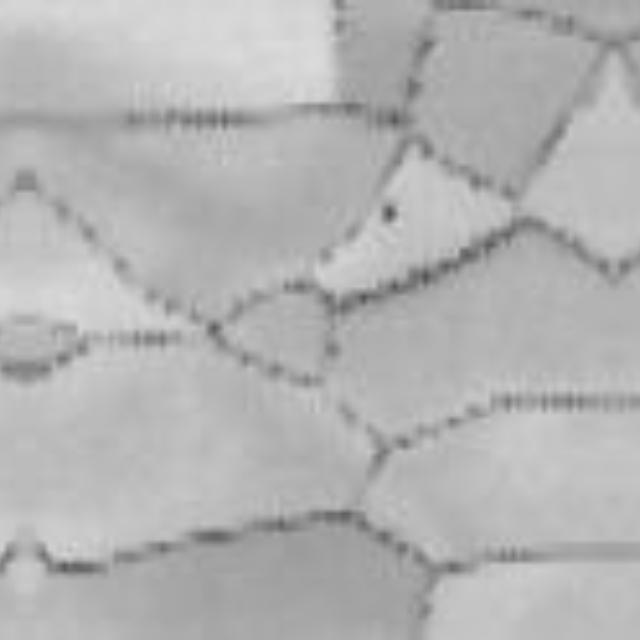good_void: (388, 201, 398, 222)
